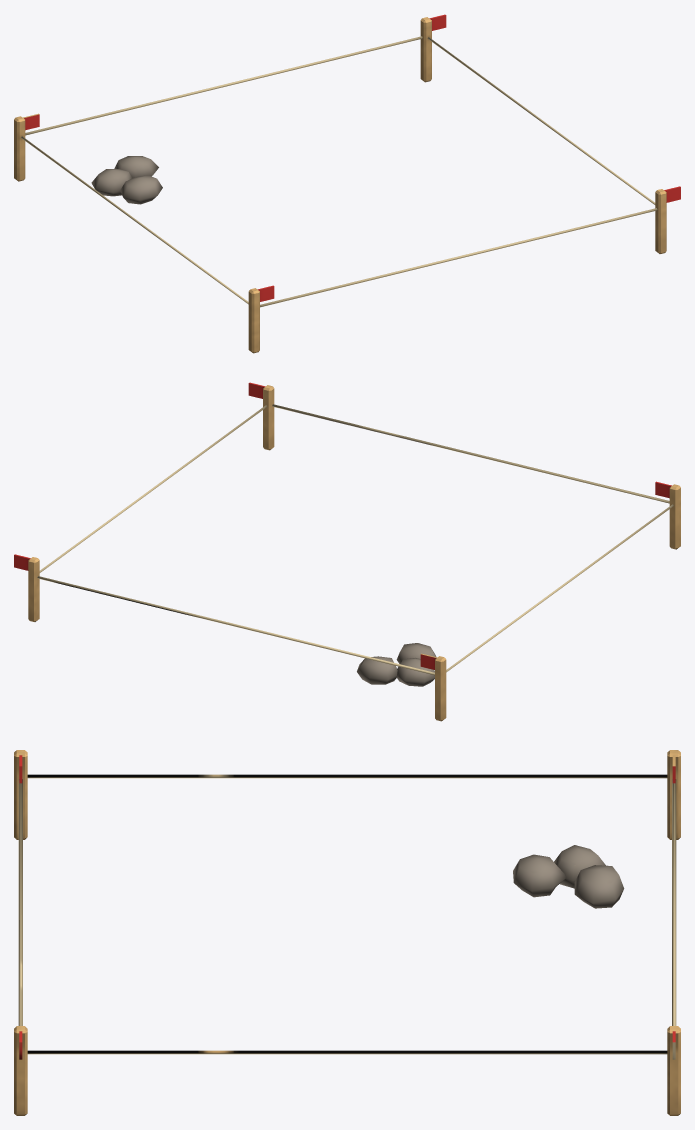
File: build_plot.glb
3 views of the same model, one above another, from view 1: azimuth 30°, elevation 25°; view 2: azimuth 150°, elevation 25°; view 3: azimuth 270°, elevation 25° (orthographic). The views are drawn at different scales.
Visible parts, largest first — view 1: build_plot; view 2: build_plot; view 3: build_plot.
Part boxes in pixels (x1,y1,x2,y2): build_plot: (14, 14, 680, 353); build_plot: (14, 382, 680, 721); build_plot: (14, 750, 680, 1115).
Bounding box in the file's own units: 5.08 × 0.7404 × 4.9.
1 material, 1 textured.
